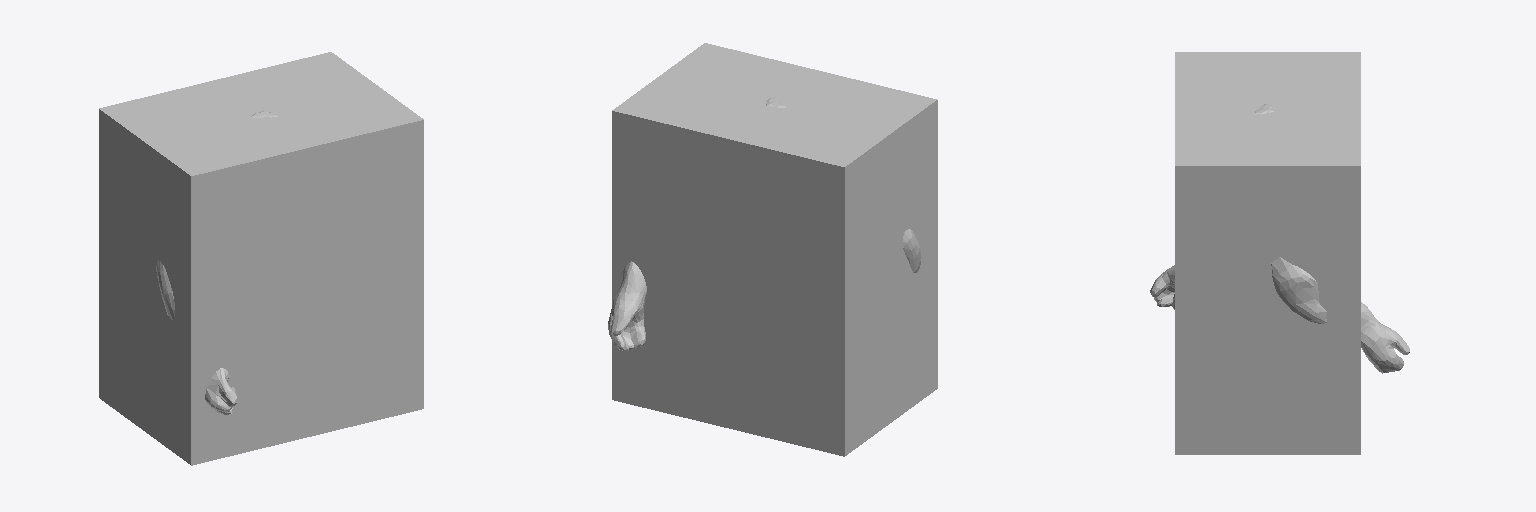
Rendered from MagmaElemental_1_000011.obj.
The picture shows the model from 3 angles: view 1: azimuth 30°, elevation 25°; view 2: azimuth 150°, elevation 25°; view 3: azimuth 270°, elevation 25°; orthographic projection.
Parts seen in each view (by area): view 1: Cube, Elemental_FireGolem; view 2: Cube, Elemental_FireGolem; view 3: Cube, Elemental_FireGolem.
Boxes of the visible parts, <box> form: Cube: <box>99,52,423,465</box>; Elemental_FireGolem: <box>156,110,277,414</box>; Cube: <box>612,43,937,456</box>; Elemental_FireGolem: <box>608,98,921,350</box>; Cube: <box>1175,52,1360,454</box>; Elemental_FireGolem: <box>1150,104,1409,373</box>.
Size of the model in its own units: 3.37 by 3.91 by 3.13.